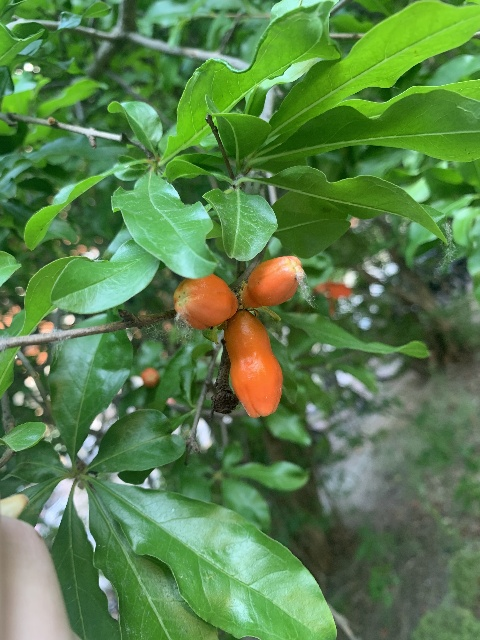bud: (225, 310, 282, 418), (173, 273, 237, 329), (243, 255, 302, 307)
